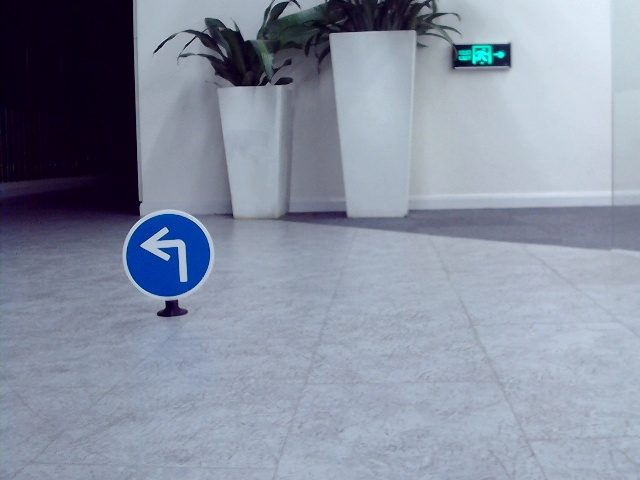turn_left: (138, 223, 188, 284)
